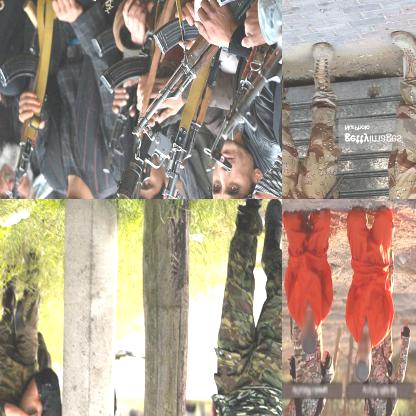rifle: (132, 0, 281, 142), (201, 10, 281, 174), (0, 2, 54, 198), (220, 0, 281, 143), (72, 133, 152, 198)
